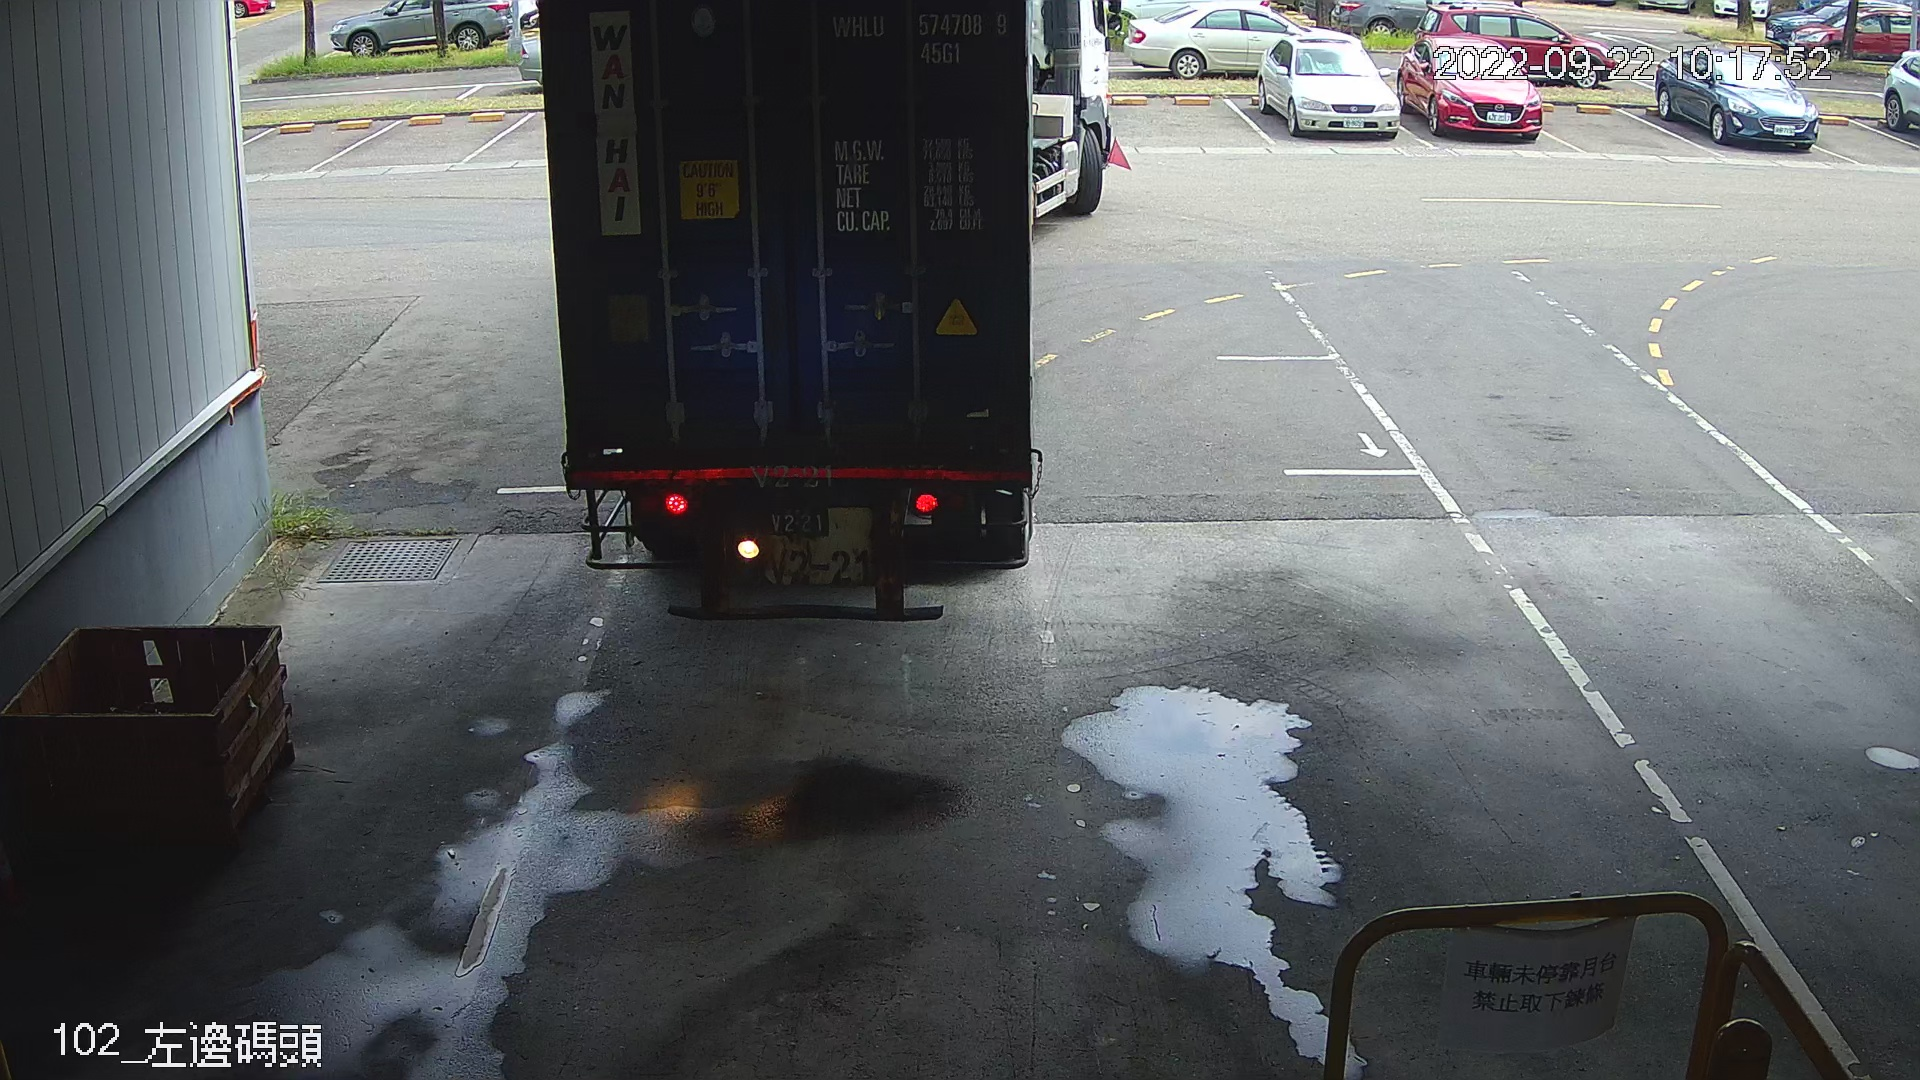container: (828, 7, 1015, 74)
